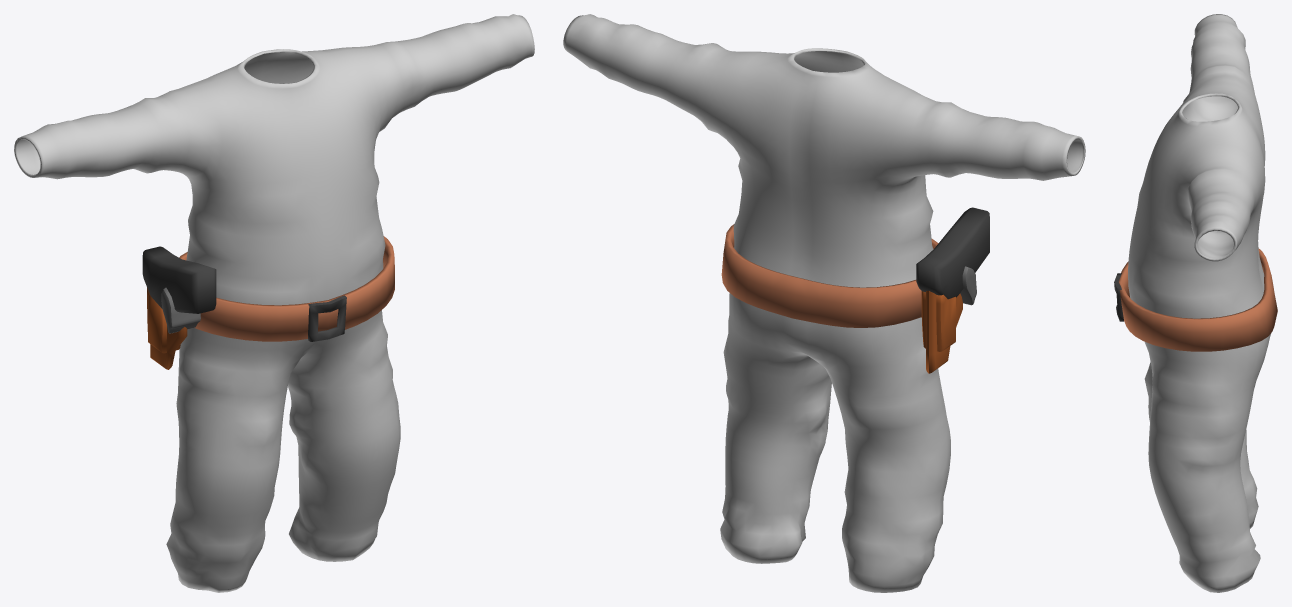
The model's file is belt.001.fbx.
The picture shows the model from 3 angles, left to right: view 1: azimuth 30°, elevation 25°; view 2: azimuth 150°, elevation 25°; view 3: azimuth 270°, elevation 25°; orthographic projection. The views are drawn at different scales.
Visible parts, largest first — view 1: belt.001; view 2: belt.001; view 3: belt.001.
Part boxes in pixels (box(x1,y1,x2,y2)): belt.001: box(14, 14, 534, 592); belt.001: box(563, 14, 1085, 592); belt.001: box(1114, 14, 1277, 592).
Size of the model in its own units: 209 by 201 by 66.65.
